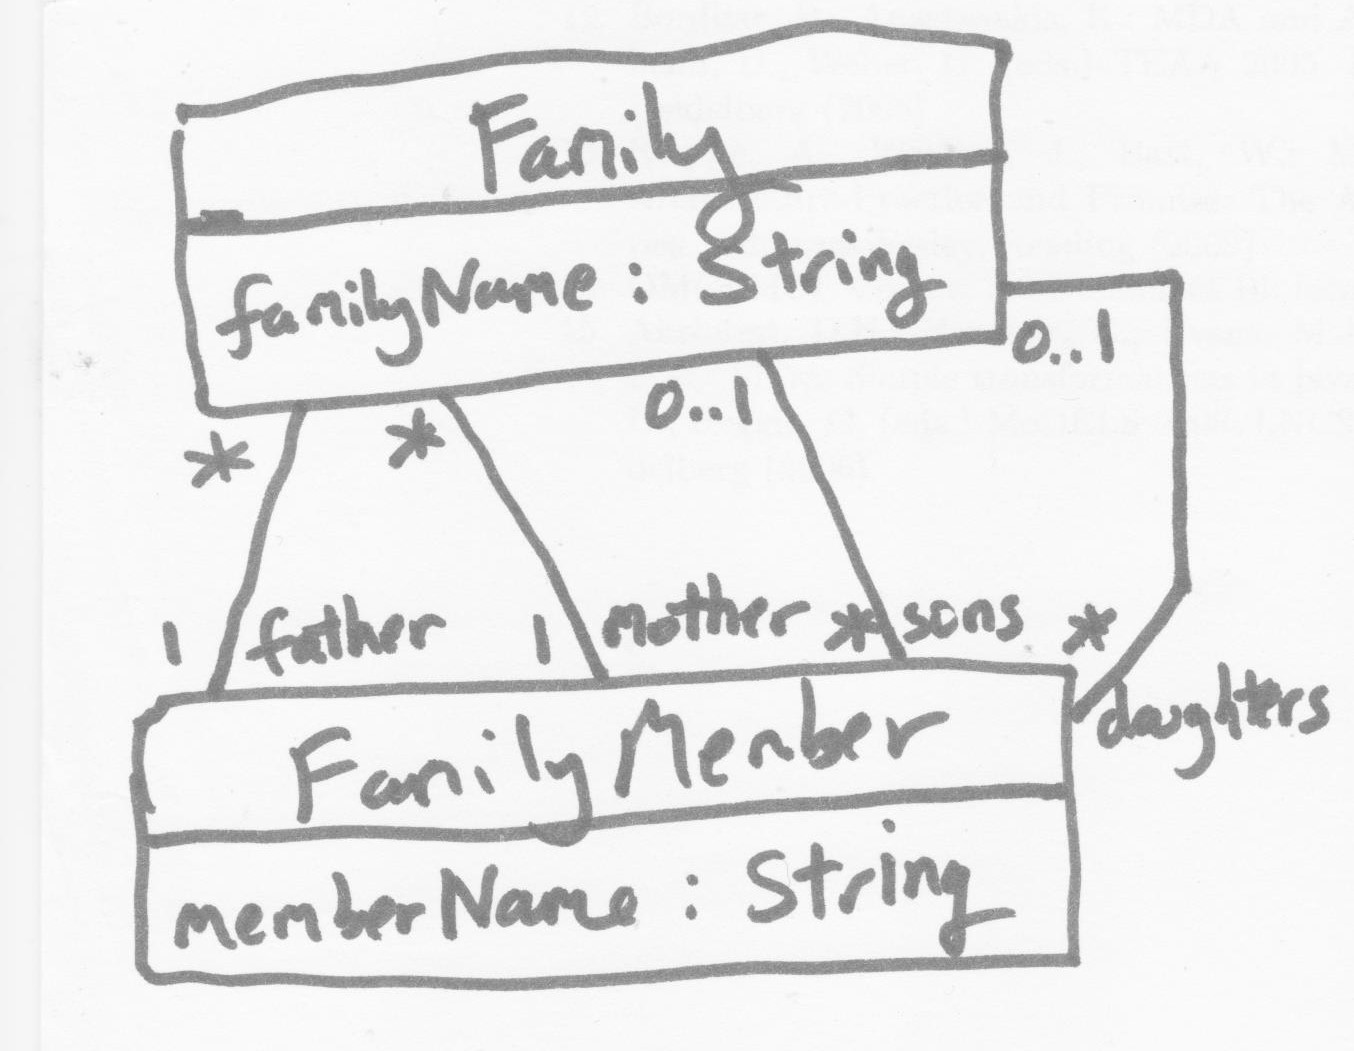association: (1000, 263, 1336, 781), (375, 395, 819, 684), (634, 354, 1031, 662), (159, 406, 448, 703)
class attributes: (166, 13, 1023, 420), (126, 653, 1094, 995)
